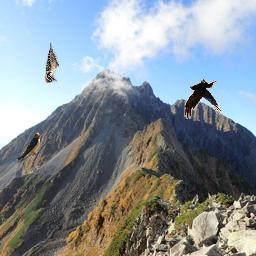Crow: (184, 79, 222, 119)
Swallow: (14, 132, 40, 172)
Woodpecker: (45, 43, 59, 83)
